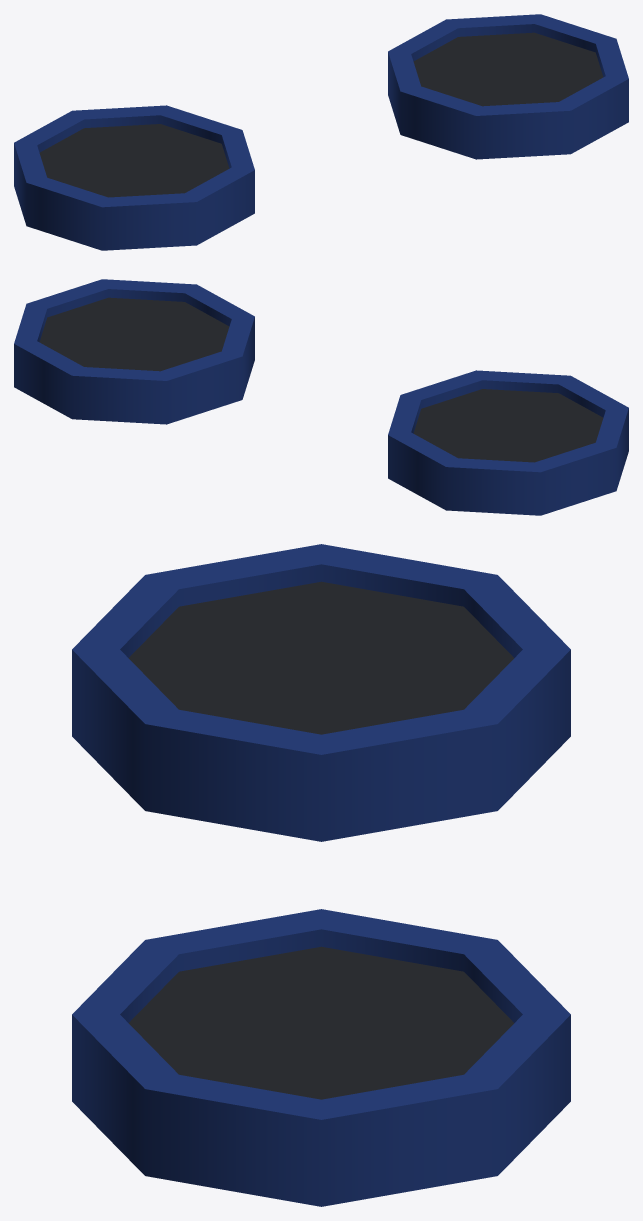
The model's file is l20_fan.obj.
3 renders of one model, top to bottom at view 1: azimuth 30°, elevation 25°; view 2: azimuth 150°, elevation 25°; view 3: azimuth 270°, elevation 25°, orthographic. The views are drawn at different scales.
Visible parts, largest first — view 1: l20_fan; view 2: l20_fan; view 3: l20_fan.
Part boxes in pixels (left/top/right/bottom): l20_fan: left=14, top=14, right=628, bottom=250; l20_fan: left=14, top=279, right=628, bottom=515; l20_fan: left=72, top=544, right=570, bottom=1206.
Bounding box in the file's own units: 1.42 × 0.1 × 0.52.
